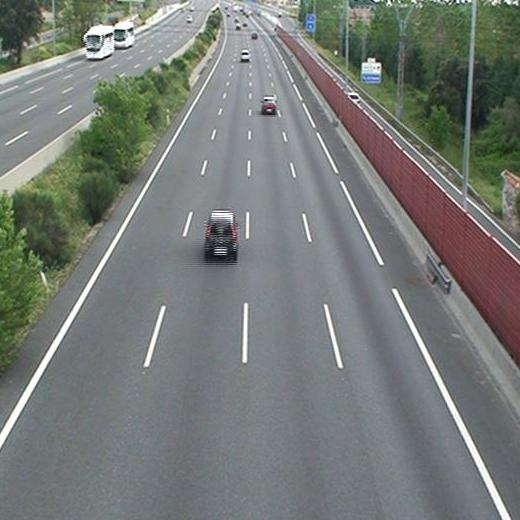car: (203, 212, 236, 260), (261, 98, 276, 111), (240, 50, 250, 61)
